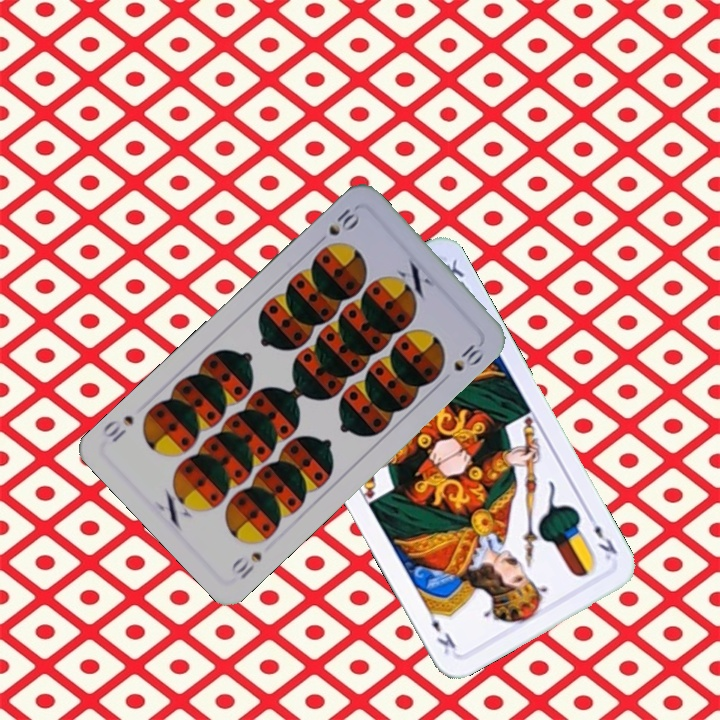EK: (583, 510, 620, 563)
S10: (312, 204, 363, 248), (226, 547, 265, 582)
